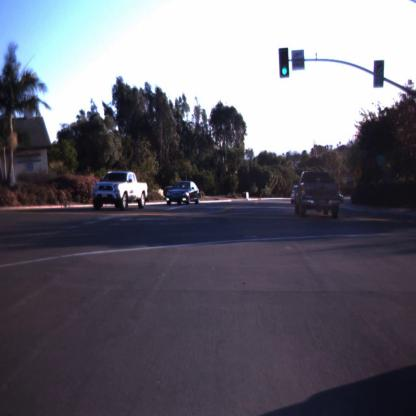trafficlight: (275, 44, 291, 82)
